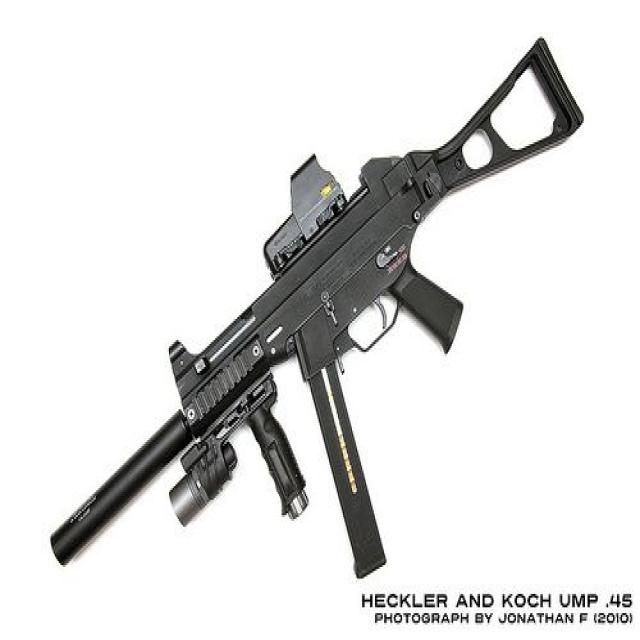SMG: (50, 37, 585, 580)
